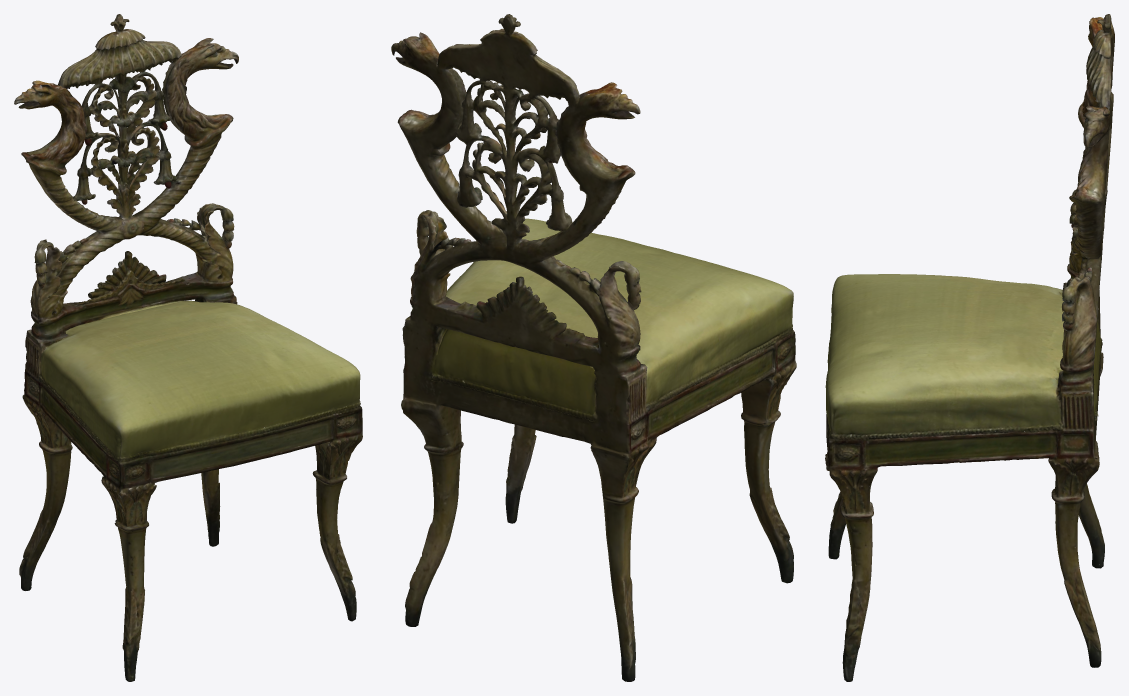
Rendered from Silla_Pergoles.glb.
3 renders of one model, left to right at view 1: azimuth 30°, elevation 25°; view 2: azimuth 150°, elevation 25°; view 3: azimuth 270°, elevation 25°, orthographic. The views are drawn at different scales.
Bounding box in the file's own units: 0.4629 × 0.9964 × 0.4328.
Materials: 1 (1 with a texture image).
